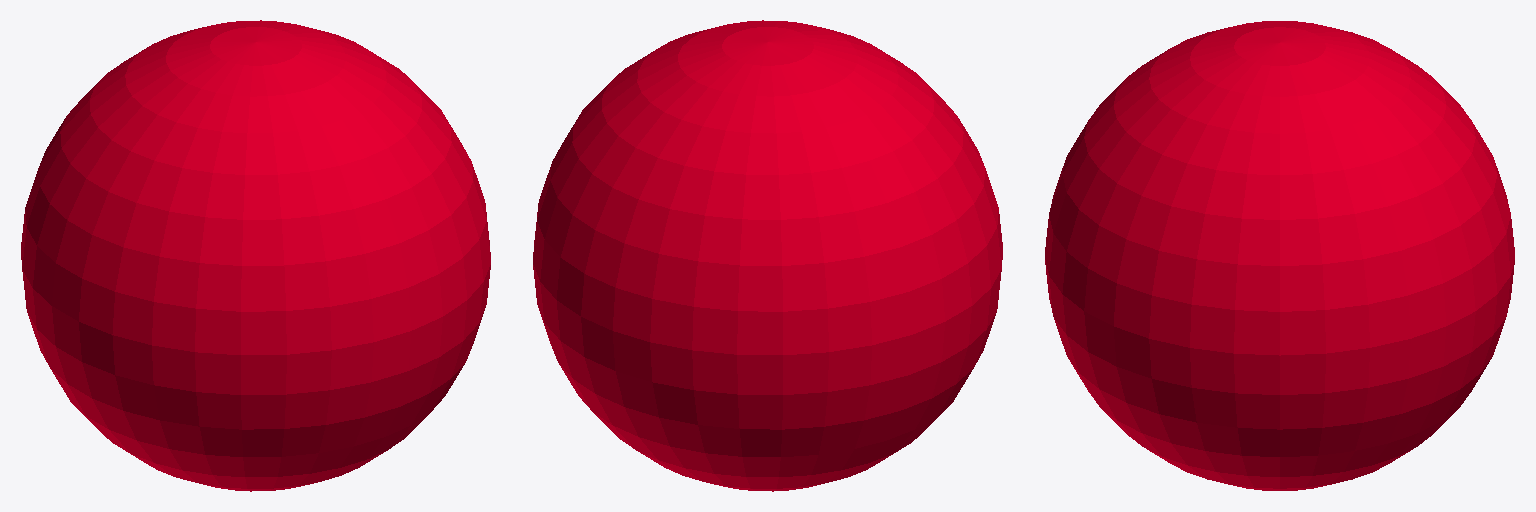
The robot description file, URDF, robot "sphere":
<?xml version="1.0"?>
<robot name="sphere">
  <link name="sphere">
    <visual>
      <origin xyz="0 0 0"/>
      <geometry>
        <sphere radius="0.03"/>
      </geometry>
       <material name="red">
        <color rgba="0.9 0 0.2 1.0"/>
      </material>
    </visual>
    <collision>
      <origin xyz="0 0 0"/>
      <geometry>
        <sphere radius="0.03"/>
      </geometry>
    </collision>
    <inertial>
      <mass value="0.046"/>
      <inertia ixx="0.01" ixy="0.0" ixz="0.0" iyy="0.01" iyz="0.0" izz="0.01"/>
    </inertial>
  </link>
</robot>

--- Render facts (derived) ---
3 views of the same robot in one strip: view 1: azimuth 30°, elevation 25°; view 2: azimuth 150°, elevation 25°; view 3: azimuth 270°, elevation 25° (orthographic).
Model sphere with 1 links and 0 joints (none), rooted at sphere, posed all joints at 0.
Visible links, largest first — view 1: sphere; view 2: sphere; view 3: sphere.
Boxes of the visible links, x1,y1,x2,y2 form: sphere: (21, 20, 490, 491); sphere: (533, 20, 1002, 491); sphere: (1045, 21, 1514, 490).
Bounding box of the posed robot: 0.06 × 0.06 × 0.06 m (x, y, z).
Geometry: primitives only (box / cylinder / sphere), no mesh files.
